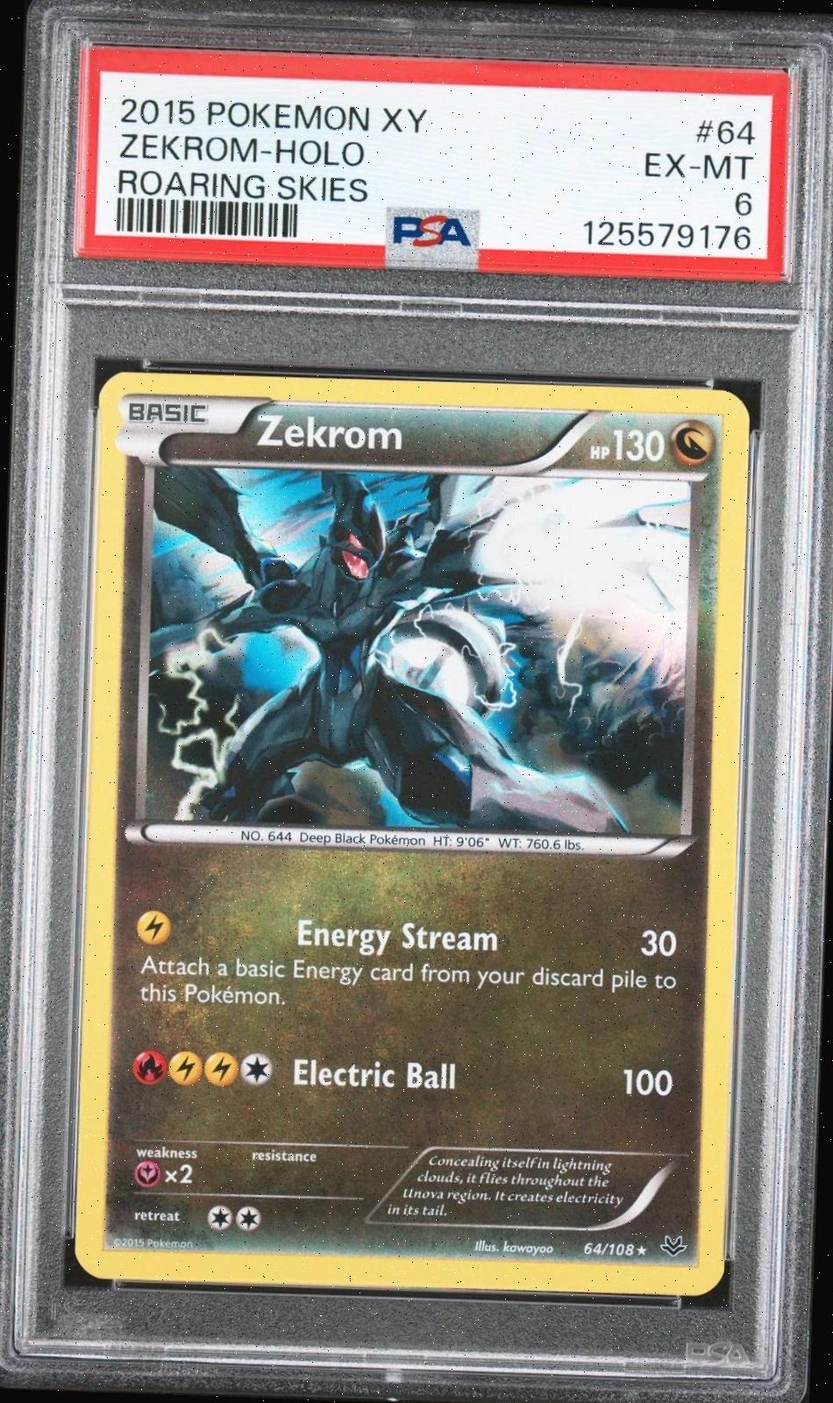card-2UtV: (73, 370, 750, 1298)
